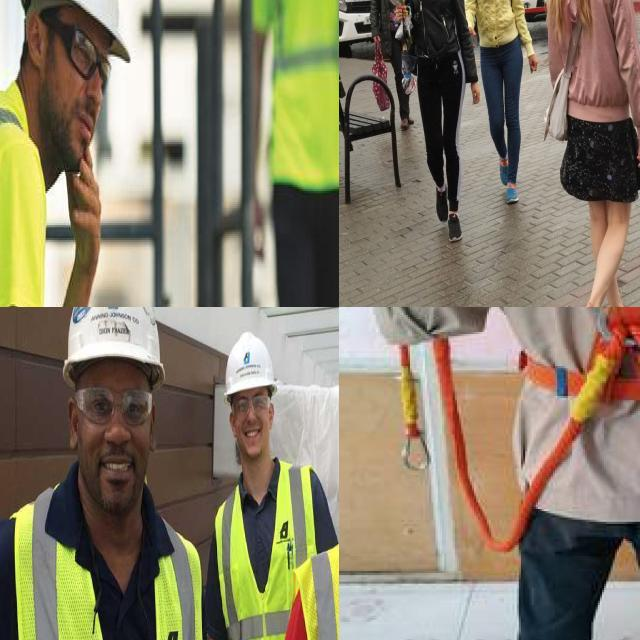Harness: (495, 307, 640, 583)
No_Ear-Protection: (64, 393, 80, 455), (148, 402, 159, 459), (228, 409, 238, 442), (267, 400, 276, 432)
face_nomask: (66, 355, 168, 510), (42, 0, 111, 167), (233, 387, 280, 463)
glasses: (56, 12, 114, 97), (74, 386, 156, 426), (230, 390, 273, 421)
hand_noglove: (67, 140, 103, 268)
head_helmet: (59, 307, 165, 373), (219, 308, 283, 404)
person: (0, 307, 203, 640), (197, 307, 337, 640), (0, 0, 132, 307), (237, 0, 339, 307)
vest: (2, 496, 198, 640), (248, 0, 339, 248), (213, 473, 323, 640)
